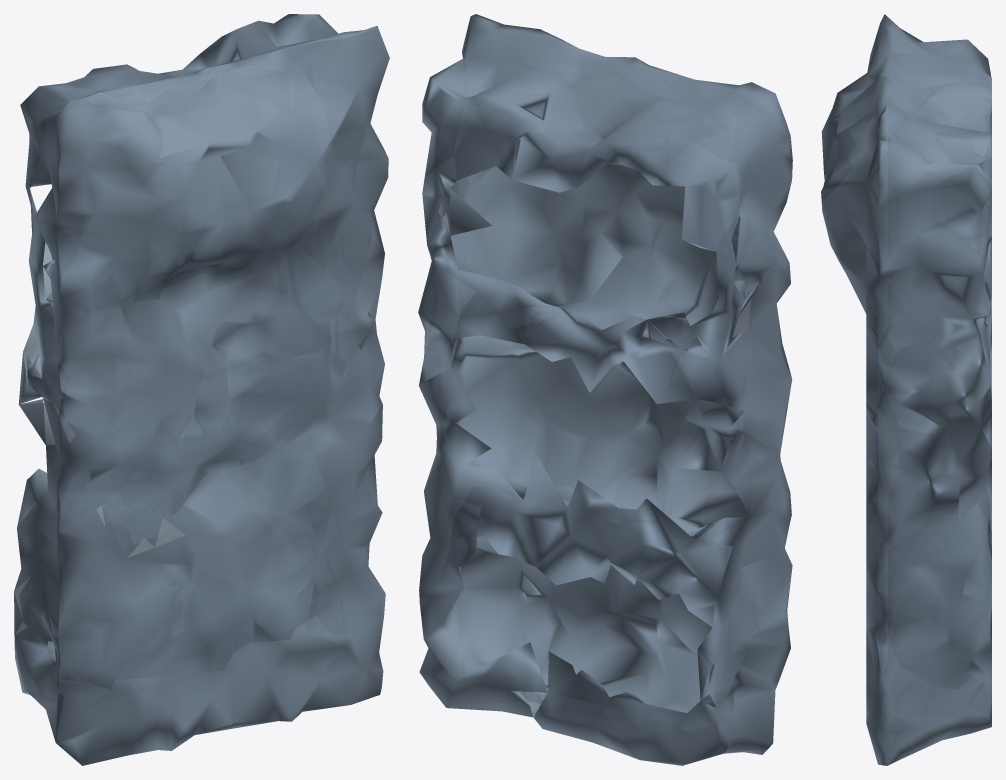
File: bed_0143_original.obj
3 renders of one model, left to right at view 1: azimuth 30°, elevation 25°; view 2: azimuth 150°, elevation 25°; view 3: azimuth 270°, elevation 25°, orthographic. The views are drawn at different scales.
Bounding box in the file's own units: 0.9226 × 1.8 × 0.4485.
